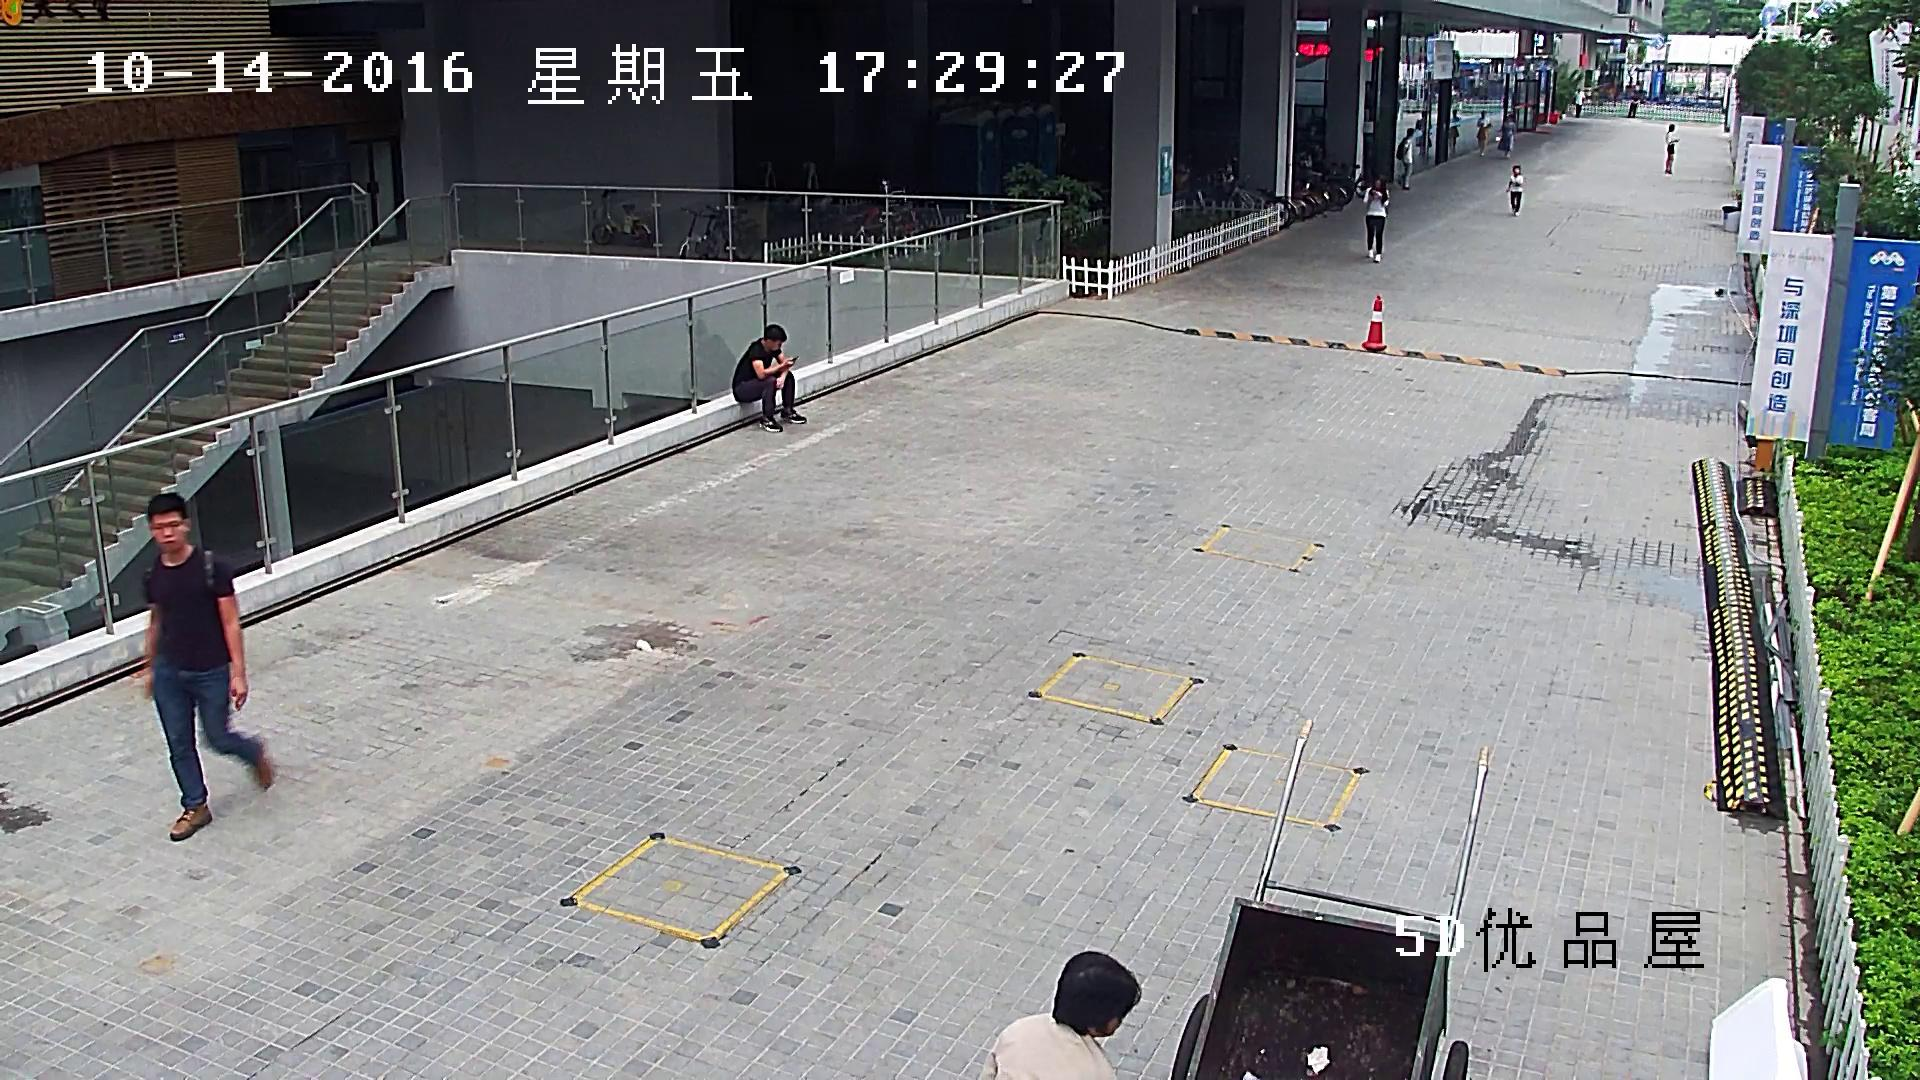person: (141, 492, 274, 842), (975, 948, 1140, 1080), (731, 323, 807, 431), (1362, 174, 1389, 262), (1396, 127, 1414, 190), (1495, 114, 1516, 159), (1505, 165, 1523, 216), (1415, 110, 1432, 160), (1476, 110, 1491, 158), (1665, 124, 1679, 174), (1449, 109, 1461, 156), (1625, 89, 1640, 118), (1573, 87, 1585, 117)
